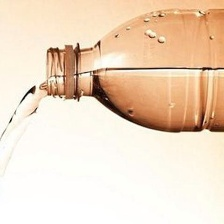bottle: (40, 5, 223, 137)
